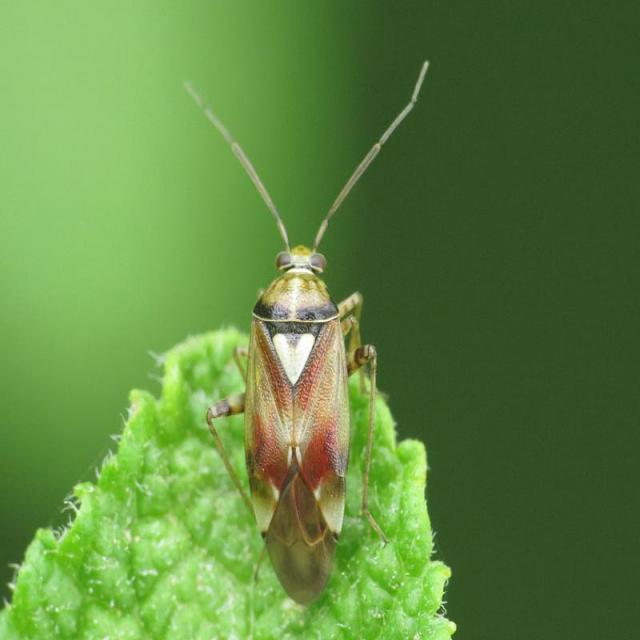Miridae-Adult-: (160, 57, 432, 606)
